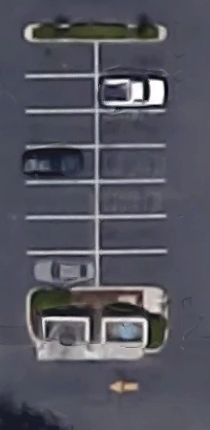Occupied: (25, 146, 96, 182), (26, 252, 97, 287), (96, 76, 166, 111)
Vacant: (25, 75, 97, 111), (25, 111, 97, 146), (96, 145, 166, 181), (25, 182, 97, 217), (25, 217, 97, 252), (25, 41, 96, 76), (97, 182, 166, 217), (97, 217, 166, 252), (97, 252, 166, 287), (96, 41, 166, 75), (97, 111, 166, 145)
